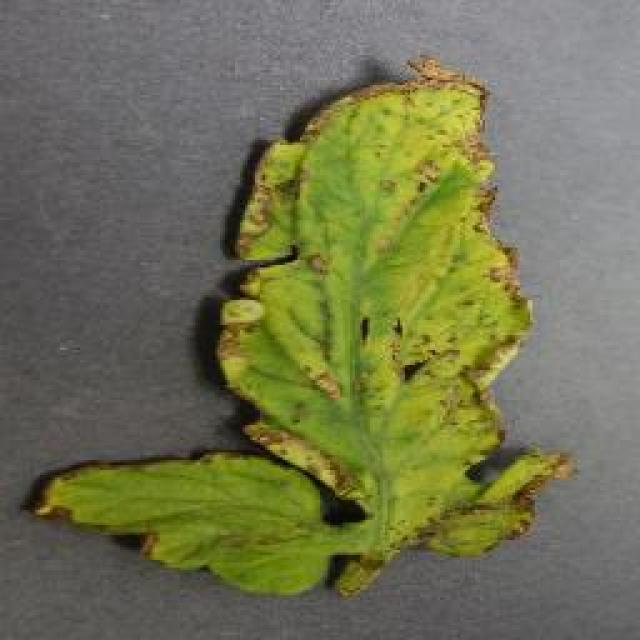Tomato___Bacterial_spot: (25, 51, 585, 603)
